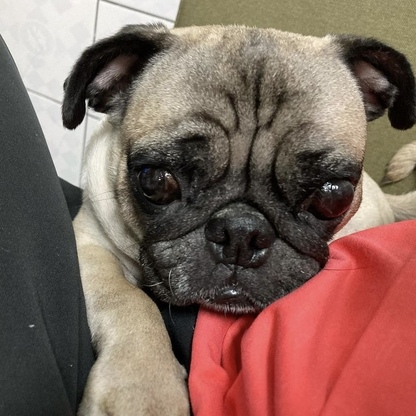Pug: (56, 18, 416, 416)
